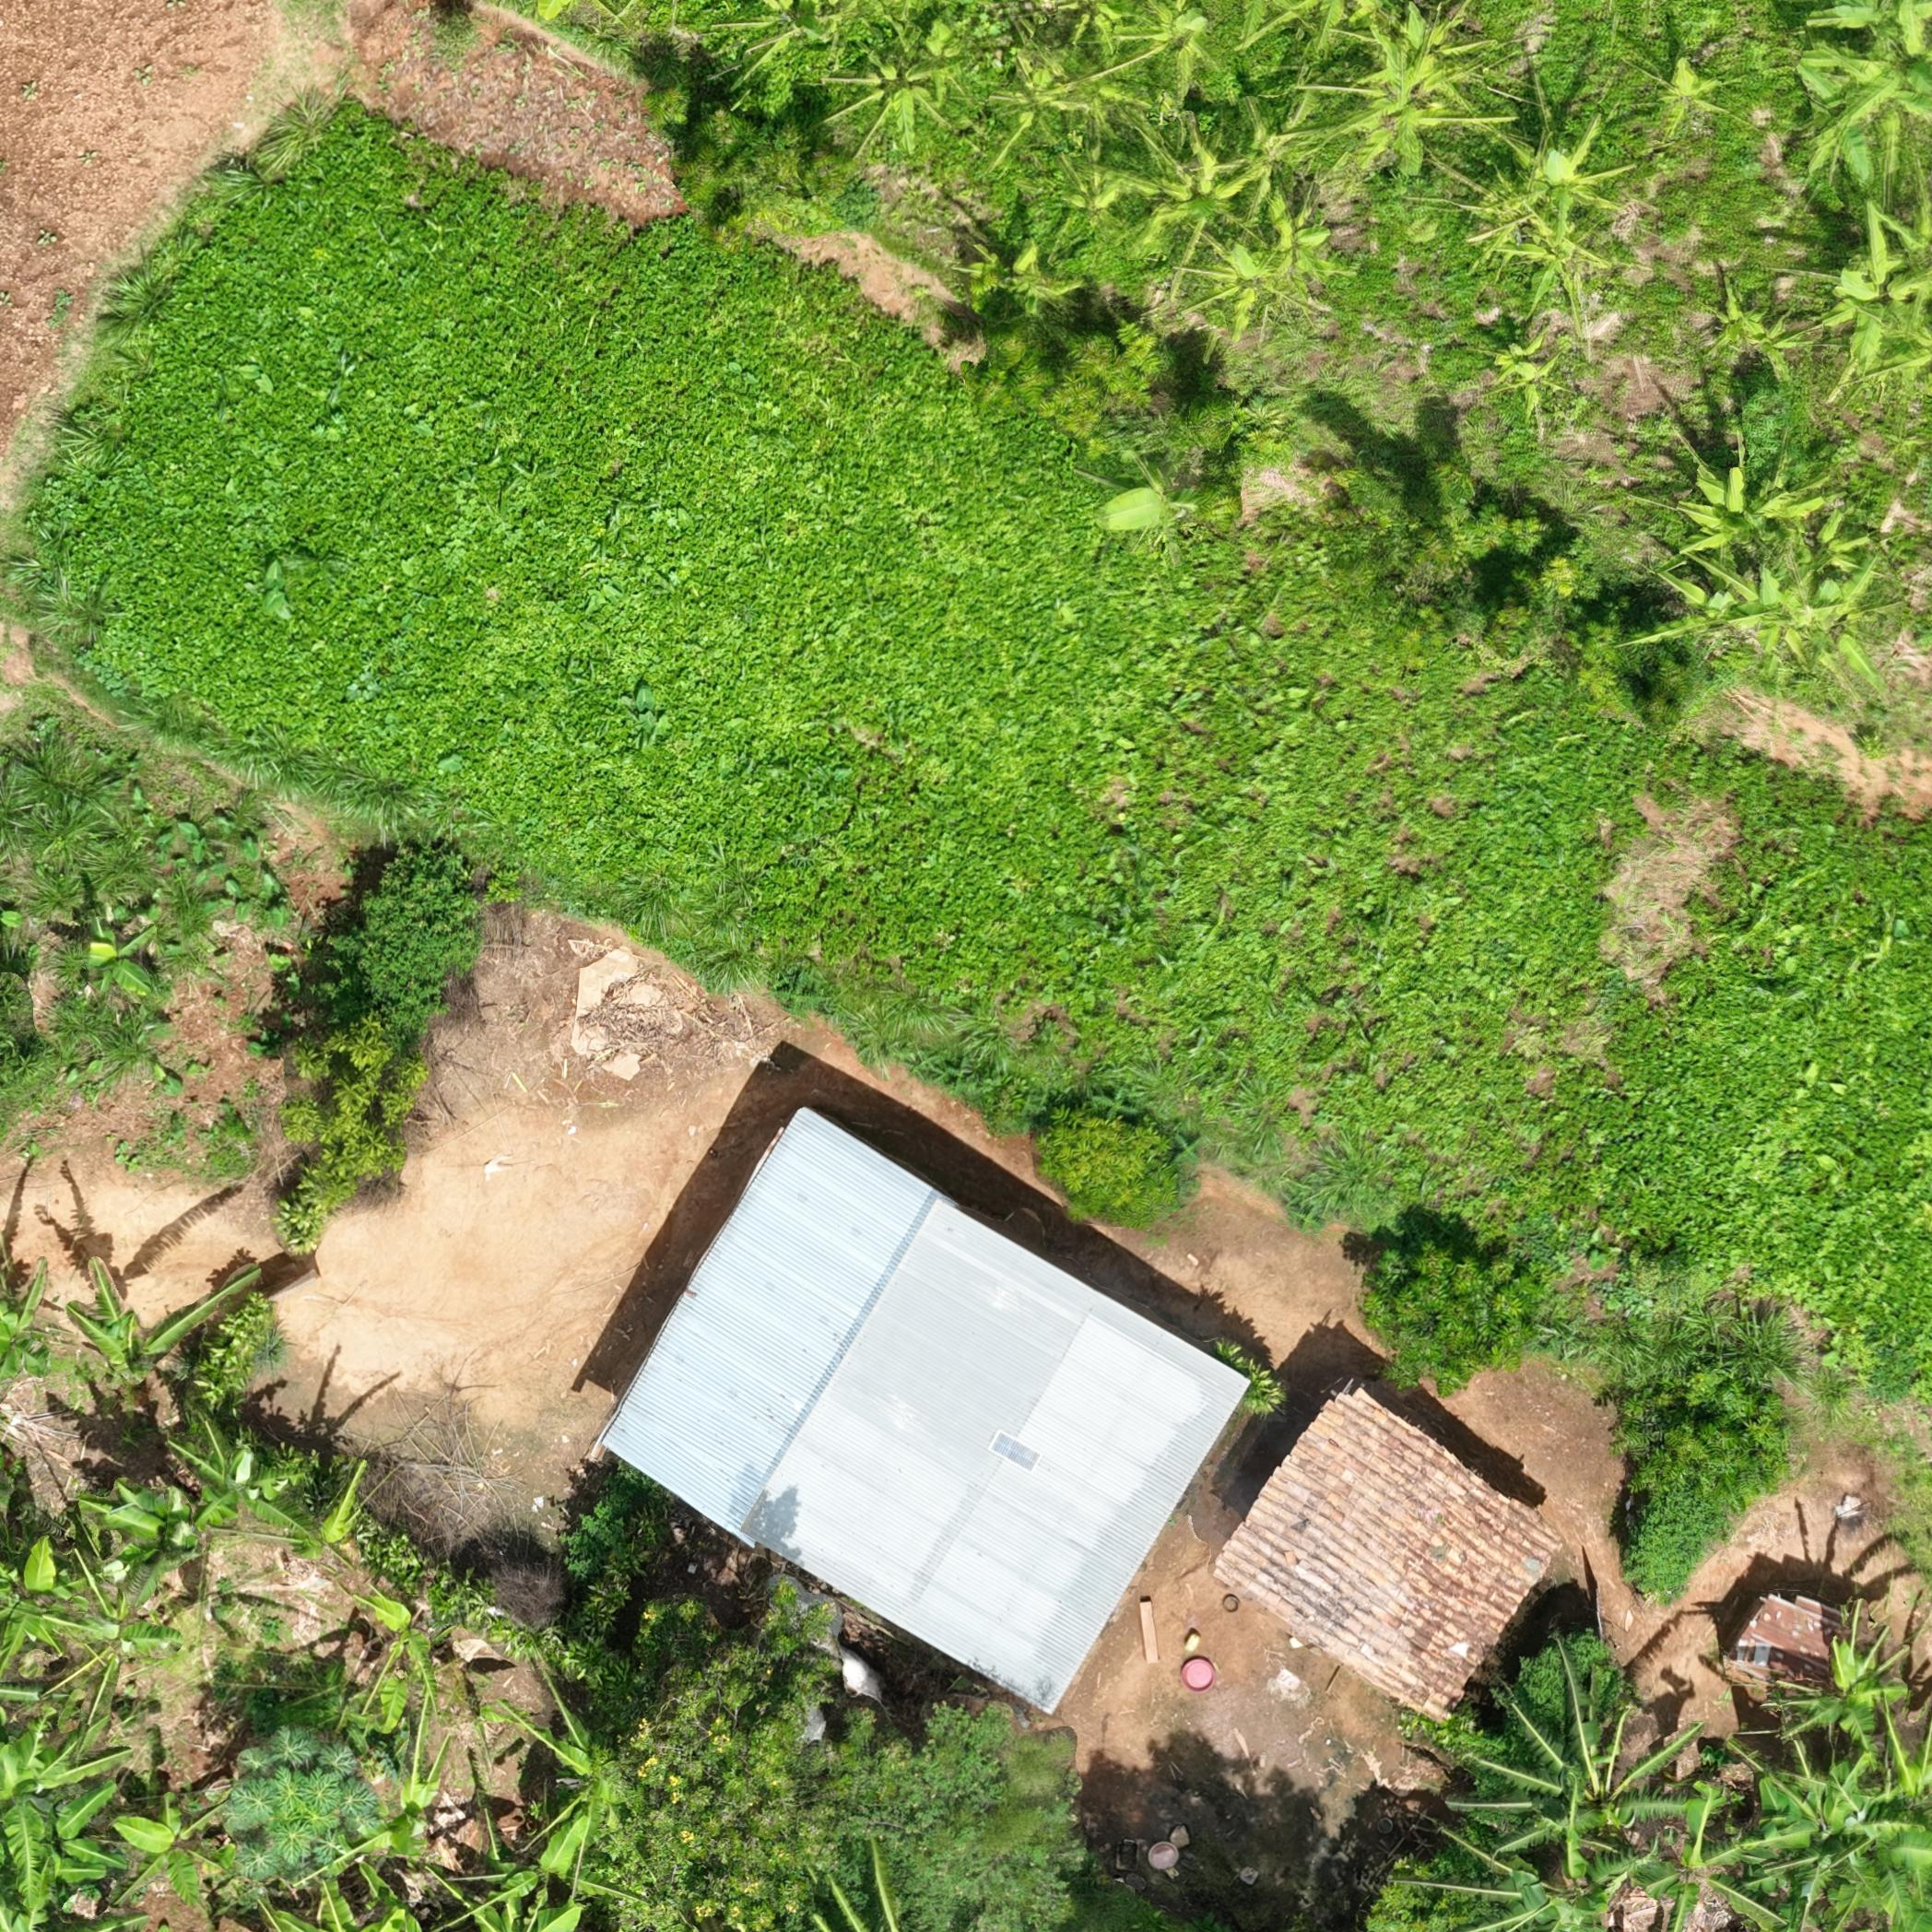Banana: (839, 41, 970, 157), (1196, 235, 1330, 340), (1343, 51, 1460, 170), (996, 50, 1108, 163), (1511, 212, 1606, 338), (1755, 577, 1865, 679), (1672, 458, 1780, 561), (1122, 9, 1215, 113), (1711, 297, 1798, 382), (1495, 343, 1560, 419)
